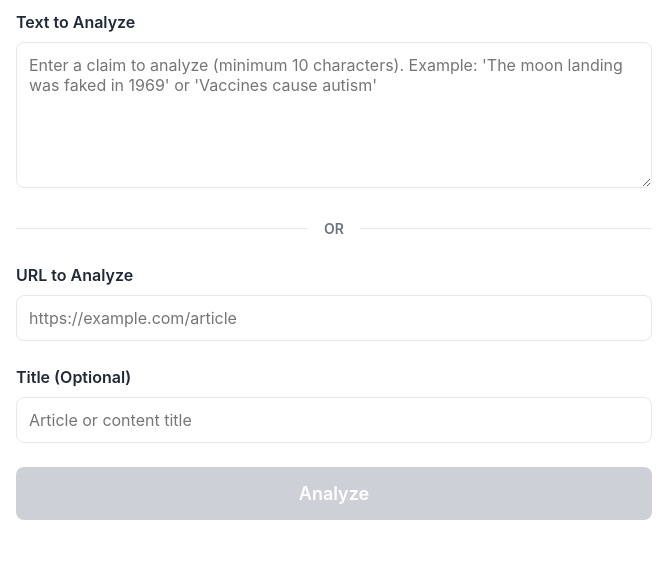
it: InputForm › Validation - Task 5.1 › displays error for text input less than 10 characters
The width and height of the screenshot is (669, 566).
// Type a character first to mark as touched
Replace the text in the text box labelled "Text to Analyze" with "s" at [334, 115], box [16,42,652,188]
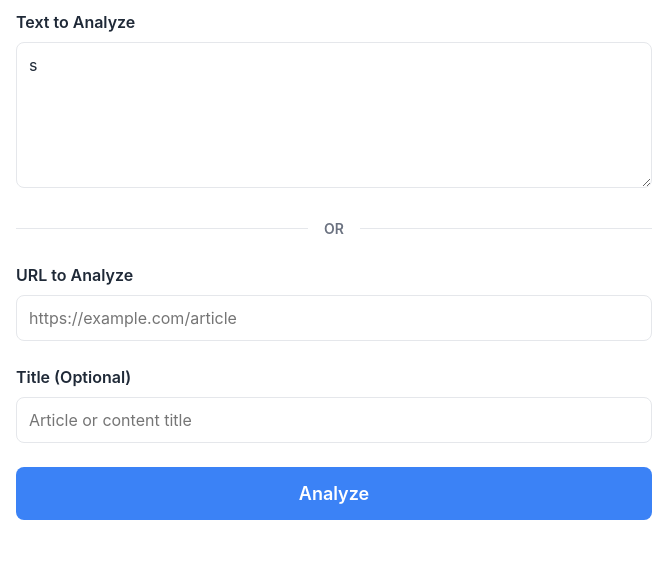
// Then type less than 10 characters
Replace the text in the text box labelled "Text to Analyze" with "short" at [334, 115], box [16,42,652,188]
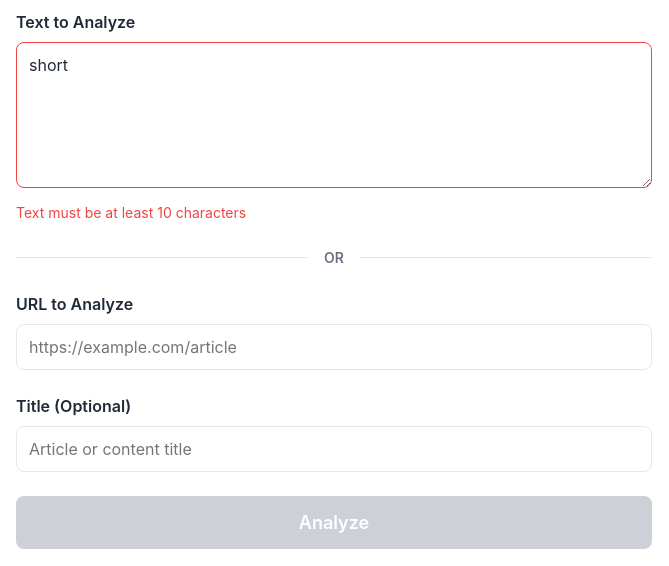
expect the text "Text must be at least 10 characters" is shown: met, box [16,204,246,221]
